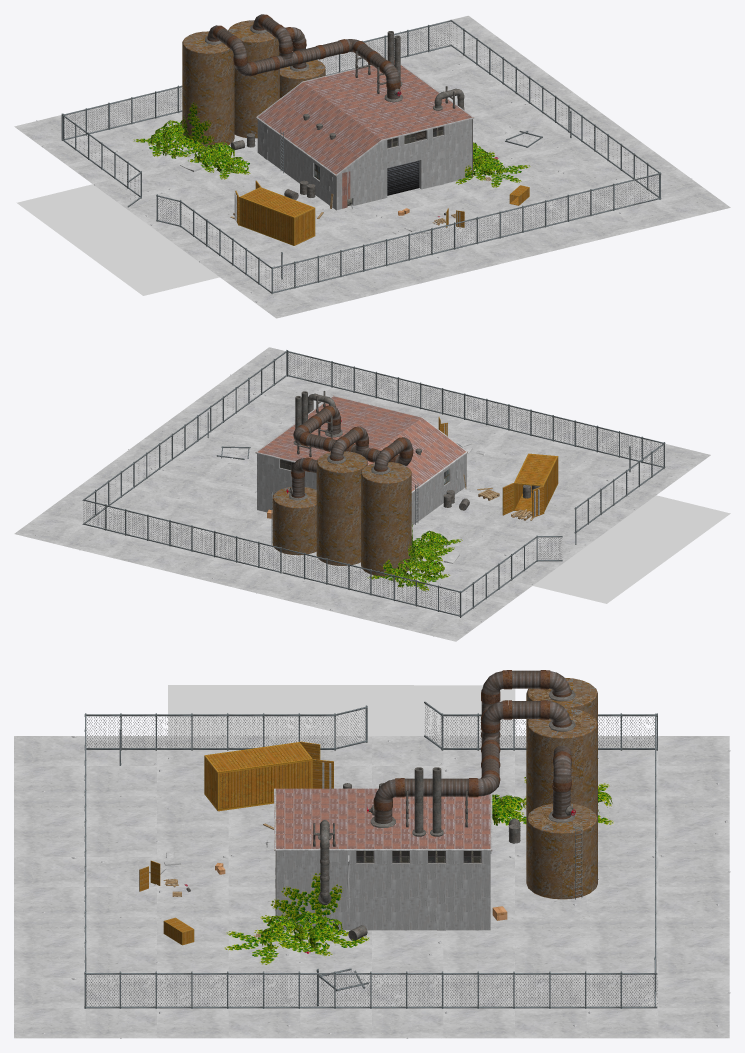
Rendered from Warehouse.fbx.
3 renders of one model, top to bottom at view 1: azimuth 30°, elevation 25°; view 2: azimuth 150°, elevation 25°; view 3: azimuth 270°, elevation 25°, orthographic. The views are drawn at different scales.
Parts seen in each view (by area): view 1: Plane.270, ground_debris9, ground_debris16, ground2, ground, ground_debris11, ground_debris7, ground_debris, ground_debris12, ground_debris19, ground_debris20, ground_debris15 (+24 smaller); view 2: Plane.270, ground4, ground_debris15, ground_debris20, ground_debris11, ground_debris14, ground_debris7, ground_debris12, ground_debris16, ground_debris18, ground_debris13, ground_debris19 (+18 smaller); view 3: Plane.270, ground, ground_debris15, ground4, ground_debris12, ground2, ground_debris9, ground_debris7, ground_debris16, ground_debris11, ground_debris, ground_debris14 (+57 smaller).
Boxes of the visible parts, x1,y1,x2,y2 form: Plane.270: (16, 184, 219, 295); ground_debris9: (589, 169, 730, 229); ground_debris16: (224, 258, 366, 318); ground2: (497, 192, 639, 251); ground: (315, 236, 457, 296); ground_debris11: (483, 92, 625, 152); ground_debris7: (535, 131, 677, 190); ground_debris: (407, 214, 548, 274); ground_debris12: (430, 54, 572, 114); ground_debris19: (67, 143, 209, 203); ground_debris20: (14, 104, 154, 164); ground_debris15: (379, 15, 520, 75); Plane.270: (533, 495, 730, 603); ground4: (102, 518, 241, 576); ground_debris15: (14, 496, 152, 555); ground_debris20: (368, 584, 506, 641); ground_debris11: (116, 422, 255, 480); ground_debris14: (191, 540, 325, 598); ground_debris7: (167, 384, 295, 443); ground_debris12: (65, 459, 204, 517); ground_debris16: (572, 434, 710, 492); ground_debris18: (470, 511, 608, 566); ground_debris13: (279, 564, 413, 619); ground_debris19: (421, 545, 557, 604); Plane.270: (168, 685, 515, 735); ground: (14, 796, 156, 856); ground_debris15: (586, 977, 730, 1038); ground4: (586, 917, 729, 977); ground_debris12: (443, 977, 587, 1038); ground2: (14, 917, 156, 977); ground_debris9: (14, 978, 157, 1038); ground_debris7: (157, 977, 300, 1038); ground_debris16: (14, 736, 157, 796); ground_debris11: (300, 978, 443, 1038); ground_debris: (14, 857, 156, 917); ground_debris14: (586, 856, 730, 917).
Bounding box in the file's own units: 17514 × 3987 × 14989.
